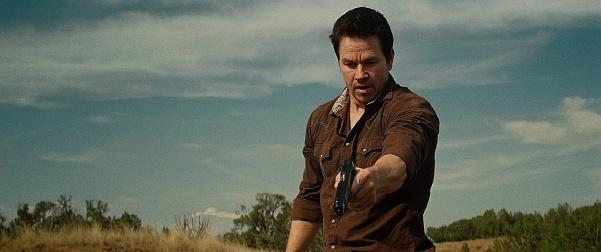Gun: (331, 159, 359, 218)
